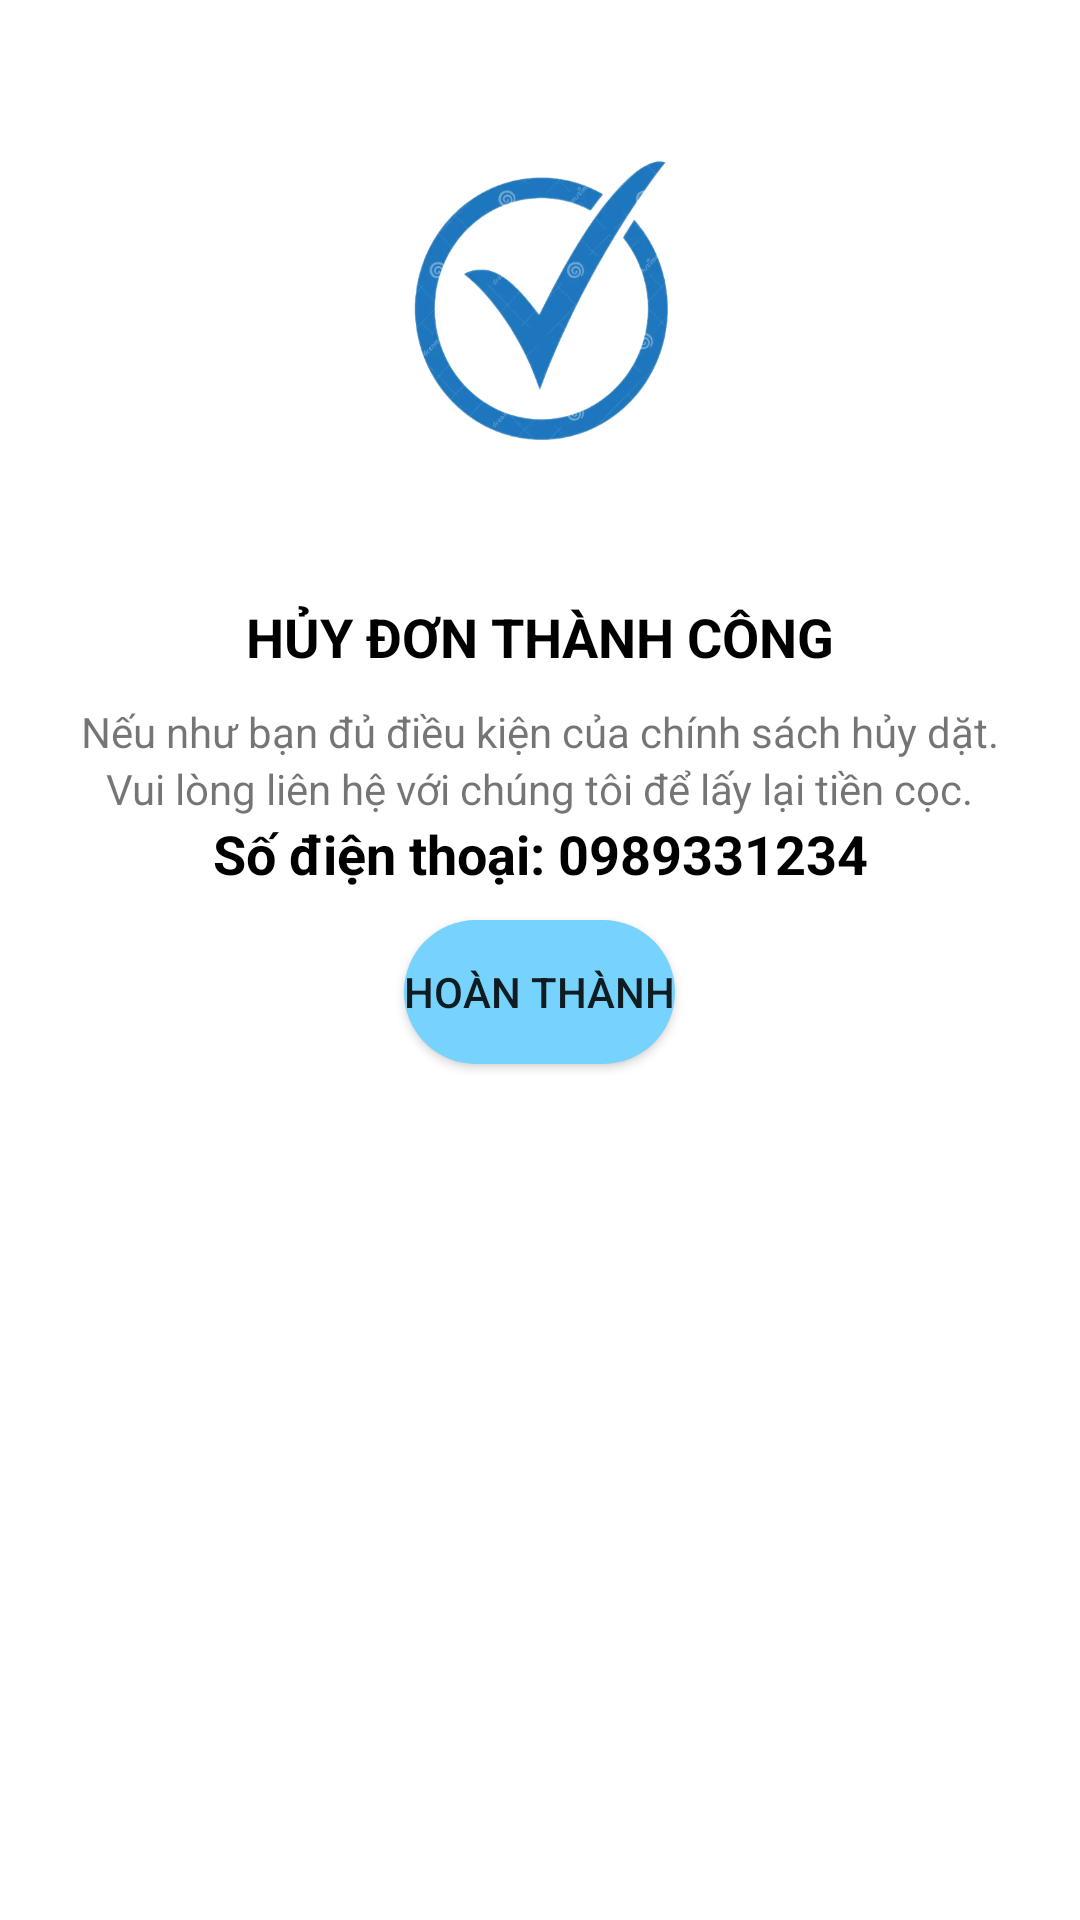

Where to tap for icons on this 1080px x 1920px app screen, as (x=x, y=y):
icontick: (x=541, y=300)
